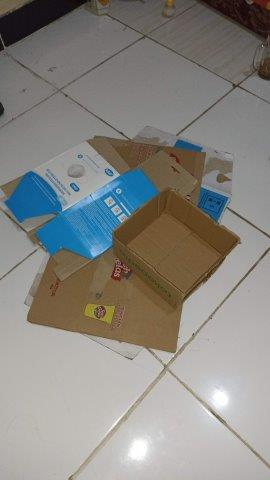kardus: (32, 125, 228, 360), (1, 143, 191, 270), (115, 190, 238, 302)
